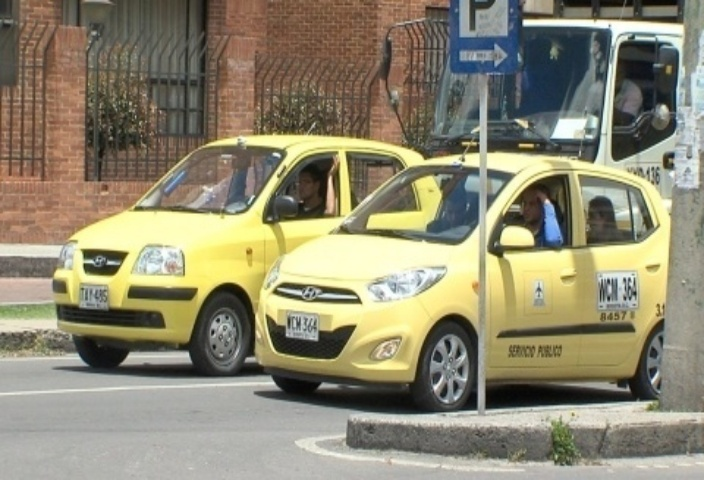taxi: (284, 141, 690, 410), (64, 128, 450, 378)
truck: (387, 5, 704, 221)
